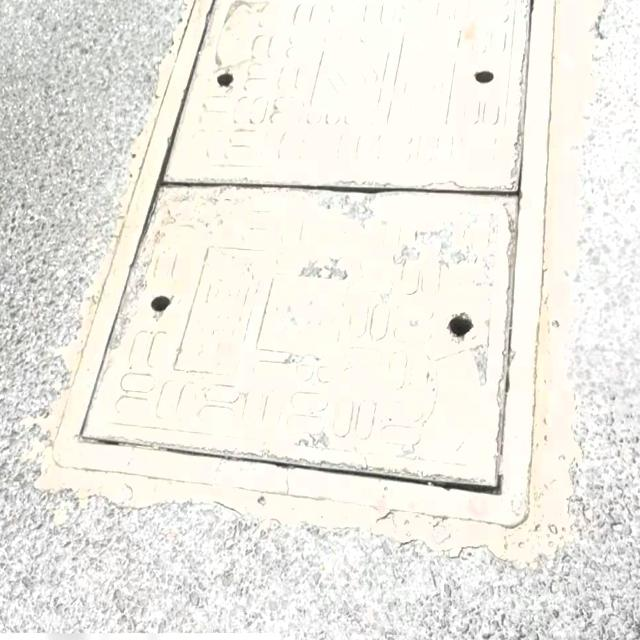good: (53, 0, 554, 530)
